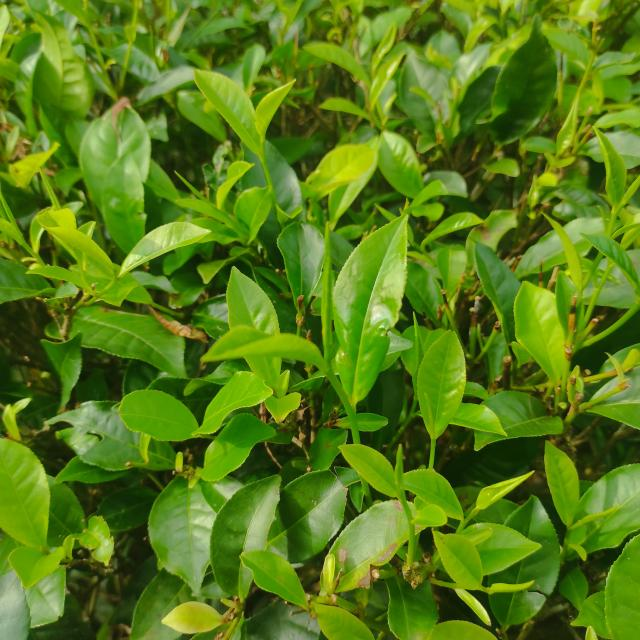unopened_leaf: (316, 216, 341, 369), (172, 165, 229, 216), (570, 496, 634, 532), (0, 184, 30, 245), (390, 440, 413, 514), (34, 160, 63, 213), (481, 574, 539, 598), (612, 168, 640, 216), (406, 304, 428, 364)
